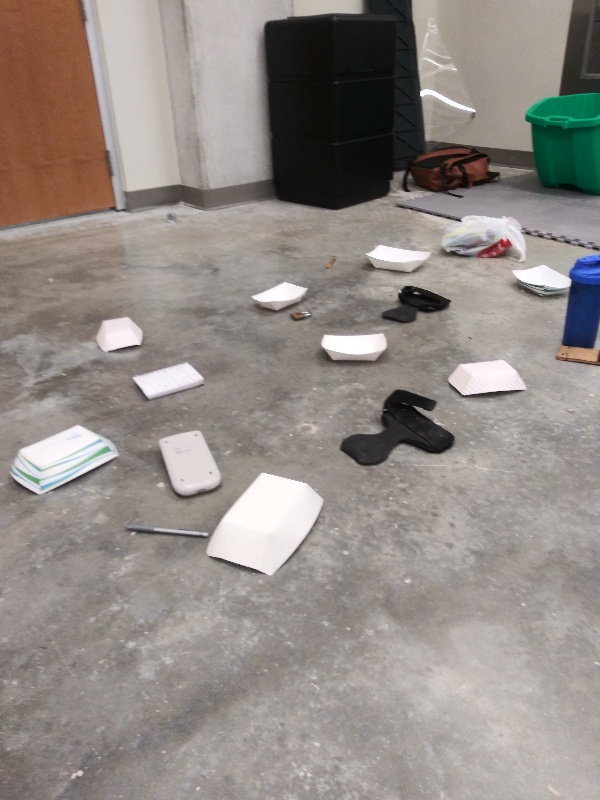plate: (200, 470, 328, 581), (7, 420, 121, 497), (442, 358, 529, 400), (319, 326, 389, 369), (505, 261, 571, 304), (92, 311, 150, 359), (361, 240, 436, 276), (245, 278, 311, 313)
